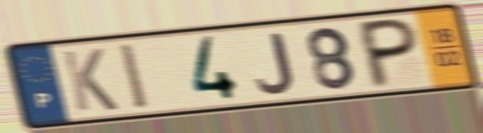4: (190, 33, 242, 105)
8: (305, 24, 359, 93)
I: (116, 41, 154, 113)
J: (253, 30, 298, 96)
K: (59, 46, 122, 114)
P: (358, 15, 420, 92)
